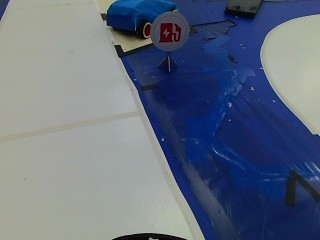battery: (155, 17, 185, 48)
